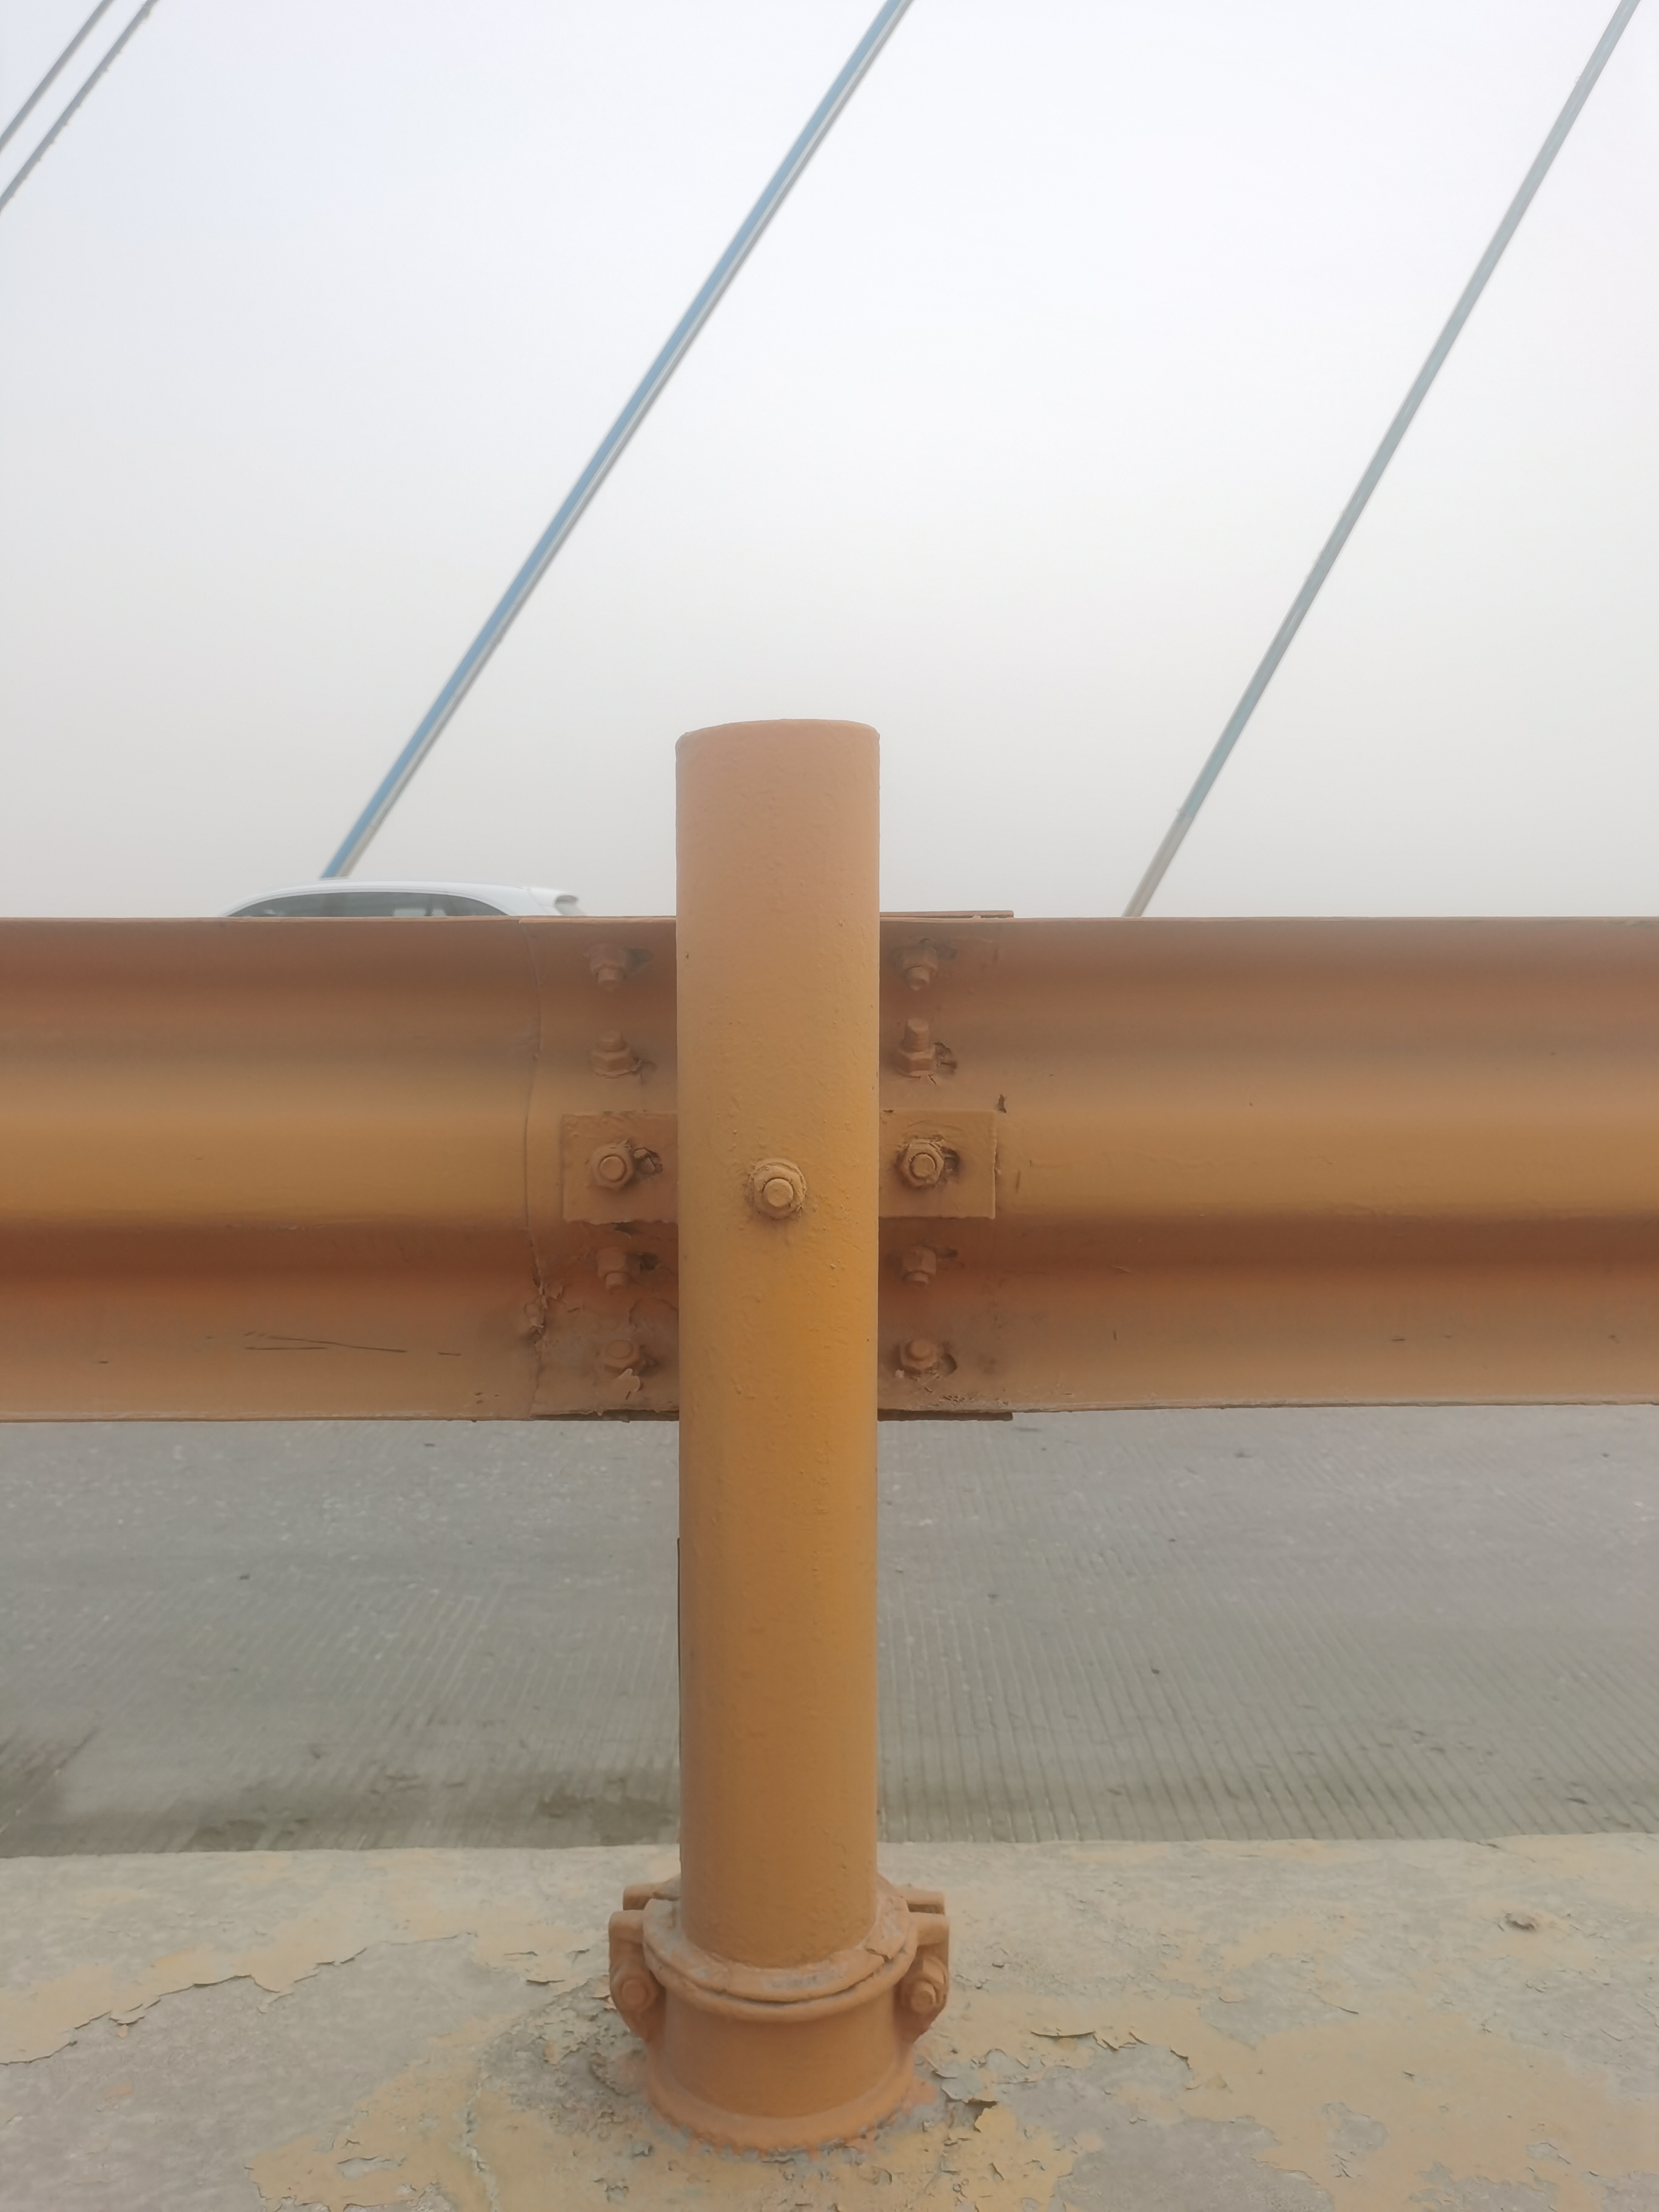bolt_b: (746, 1158, 810, 1224), (890, 1137, 950, 1191), (592, 1334, 653, 1383), (587, 1143, 638, 1195), (594, 1245, 645, 1298), (894, 1331, 946, 1379), (890, 1244, 943, 1292), (889, 1031, 941, 1078), (892, 942, 941, 991), (587, 944, 634, 995), (589, 1029, 636, 1076)
